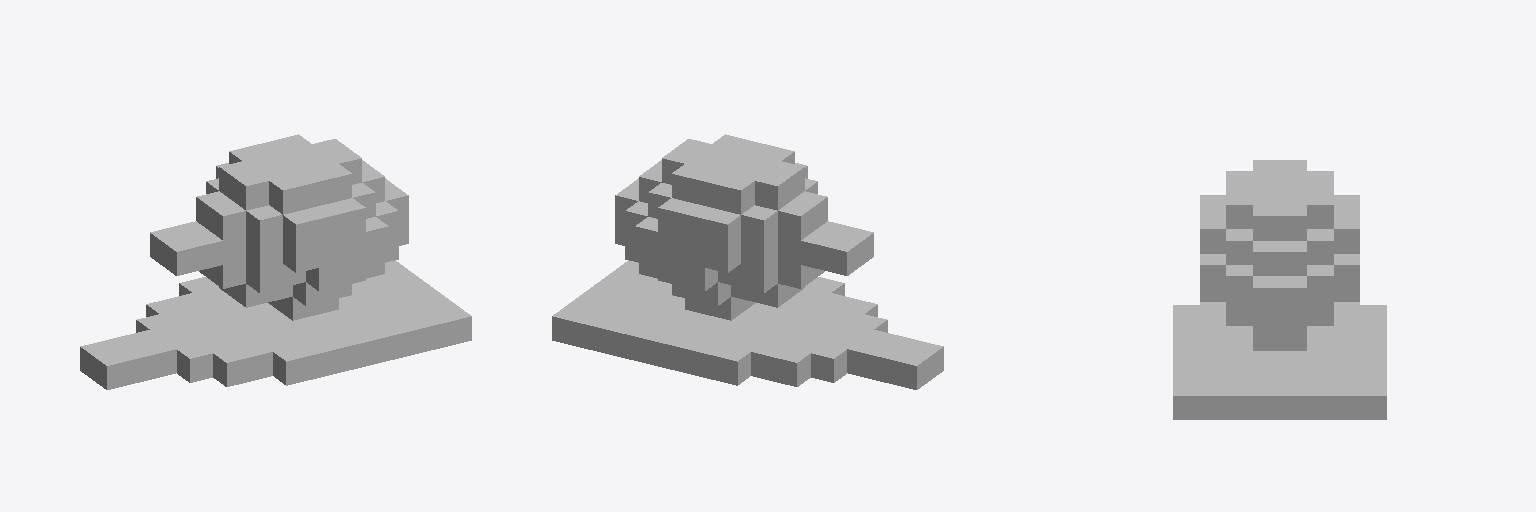
File: hardcook_cutting_board_with_onion.obj
3 views of the same model, side by side, from view 1: azimuth 30°, elevation 25°; view 2: azimuth 150°, elevation 25°; view 3: azimuth 270°, elevation 25° (orthographic).
Parts seen in each view (by area): view 1: node_0_0_0.014, node_0_0_0.010; view 2: node_0_0_0.014, node_0_0_0.010; view 3: node_0_0_0.014, node_0_0_0.010.
Boxes of the visible parts, <box> form: node_0_0_0.014: <box>150,134,408,320</box>; node_0_0_0.010: <box>80,260,471,389</box>; node_0_0_0.014: <box>615,134,873,320</box>; node_0_0_0.010: <box>552,260,943,389</box>; node_0_0_0.014: <box>1200,160,1359,350</box>; node_0_0_0.010: <box>1173,302,1386,419</box>.
Bounding box in the file's own units: 0.875 × 0.4375 × 0.5.